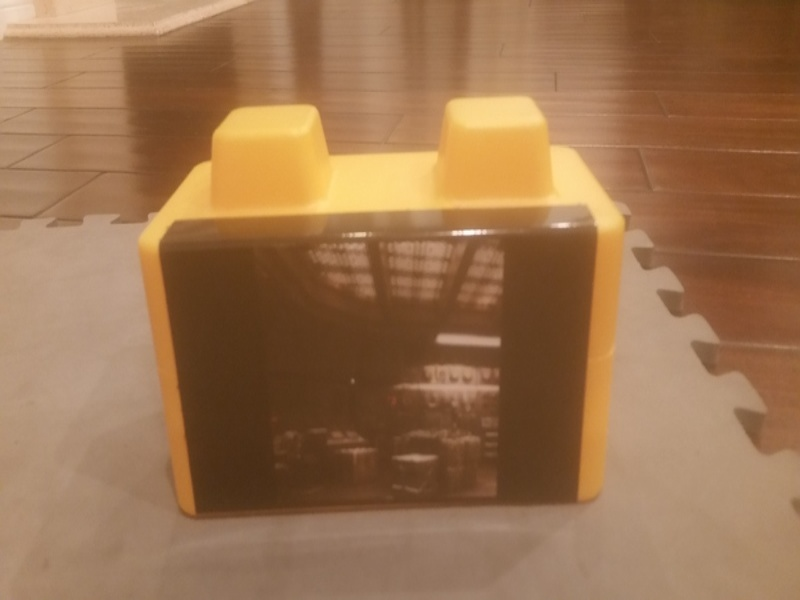Skystone: (120, 92, 628, 524)
